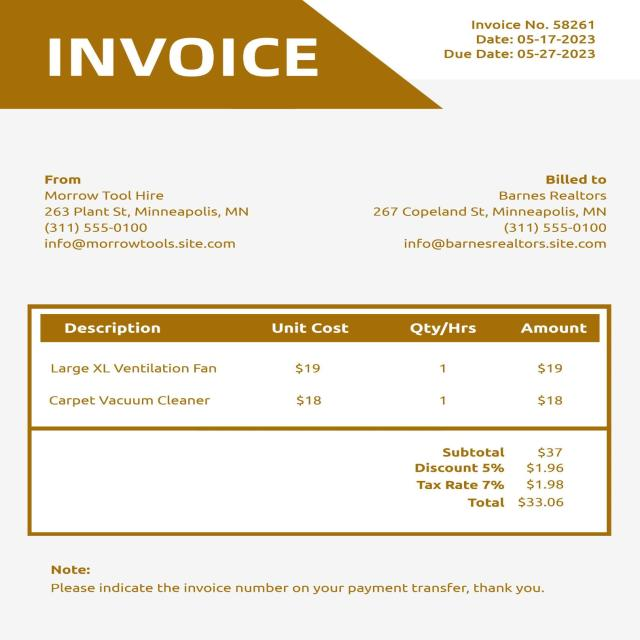paragraph: (36, 556, 624, 613), (348, 158, 620, 272), (13, 156, 255, 268), (28, 29, 334, 87), (383, 435, 582, 519), (419, 5, 607, 70)
table: (14, 294, 622, 426)
